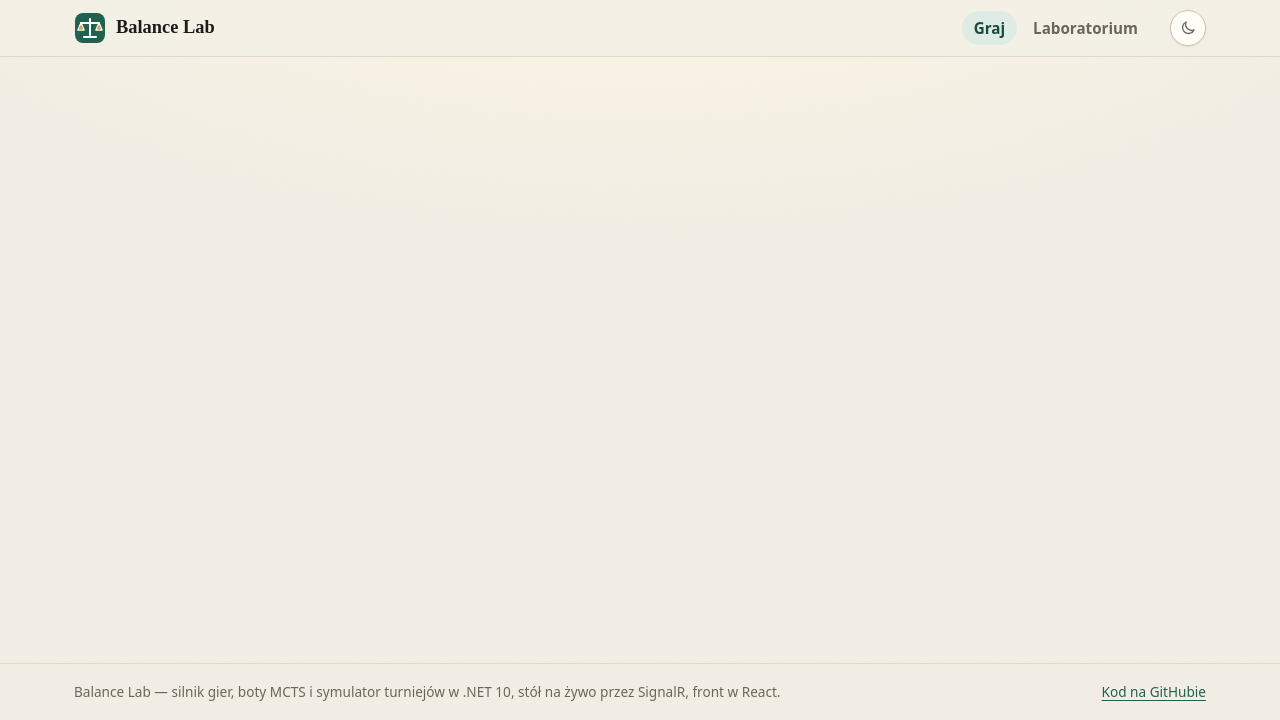
Test: Shell and the system theme › follows the system until someone chooses, then stops listening
The image size is (1280, 720).
Step 1. Click the button named "Włącz ciemny motyw" → [1188, 28], box [1170,10,1206,46]
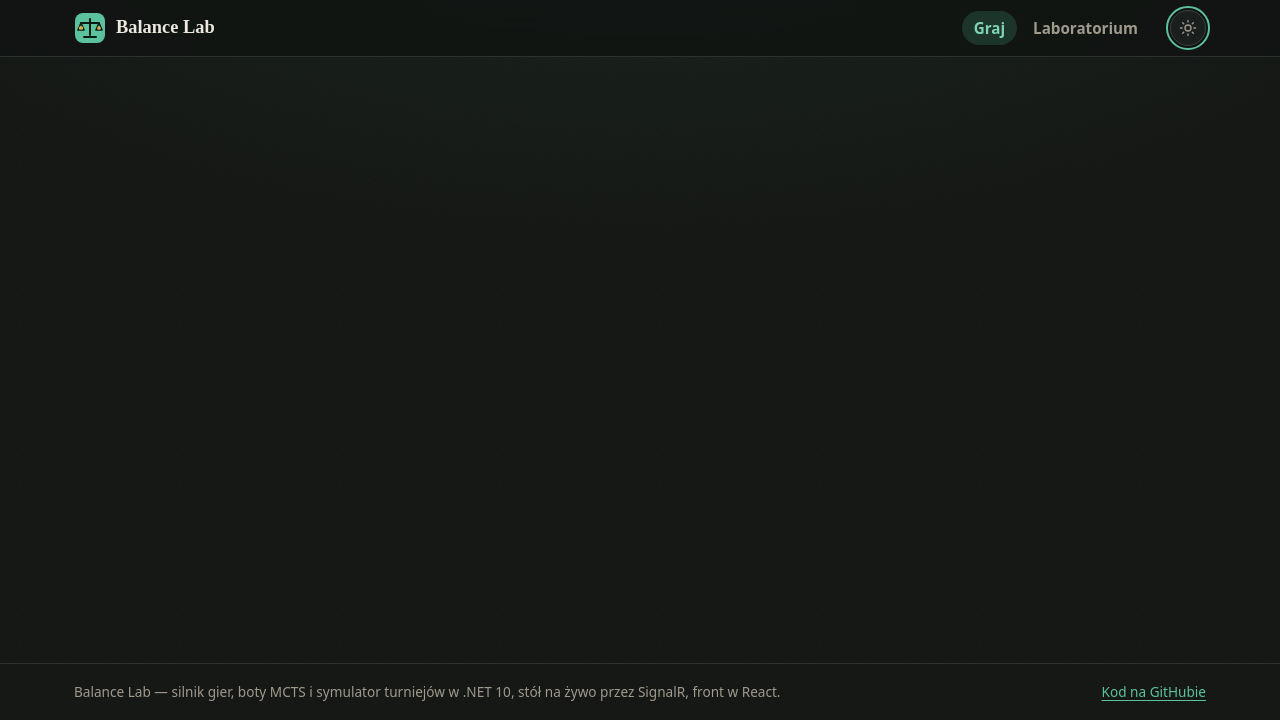
Check: the button named "Włącz jasny motyw" is shown, box [1170,10,1206,46]
